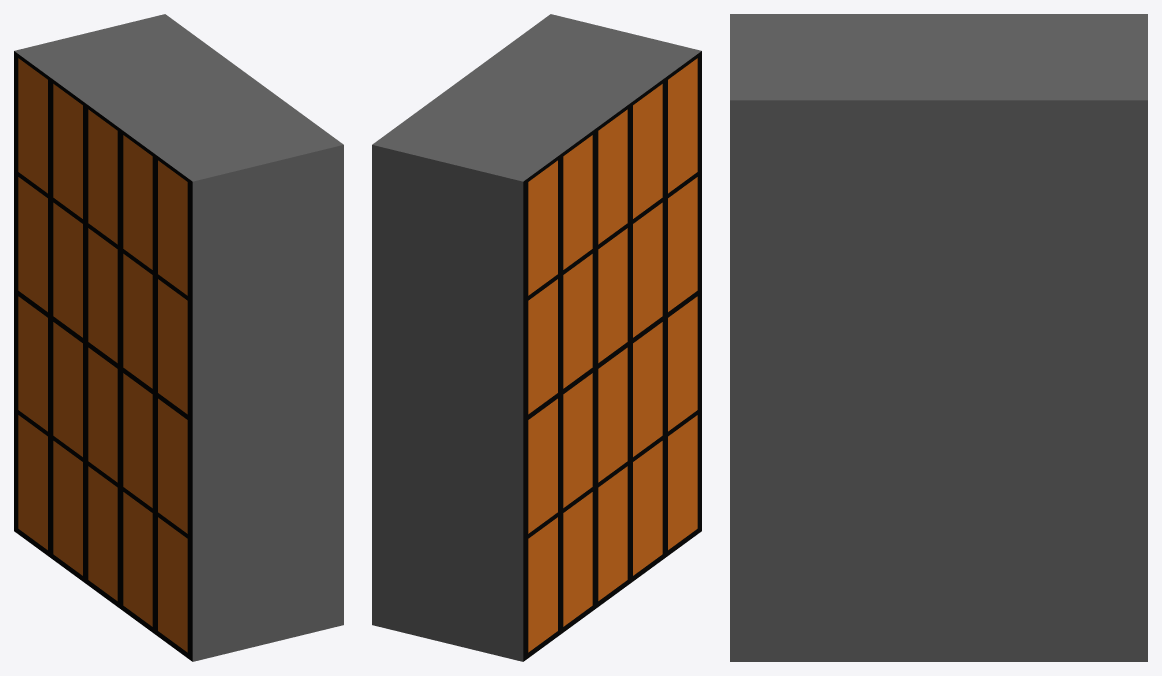
Rendered from building_03.glb.
The picture shows the model from 3 angles, left to right: view 1: azimuth 30°, elevation 25°; view 2: azimuth 150°, elevation 25°; view 3: azimuth 270°, elevation 25°; orthographic projection. The views are drawn at different scales.
Visible parts, largest first — view 1: Cube, Cube.001; view 2: Cube, Cube.001; view 3: Cube.
Boxes of the visible parts, bbox=[...] form: Cube: bbox=[14, 14, 343, 661]; Cube.001: bbox=[18, 58, 187, 652]; Cube: bbox=[372, 14, 701, 661]; Cube.001: bbox=[528, 58, 697, 652]; Cube: bbox=[730, 14, 1147, 661].
Bounding box in the file's own units: 4.01 × 12.14 × 8.19.
